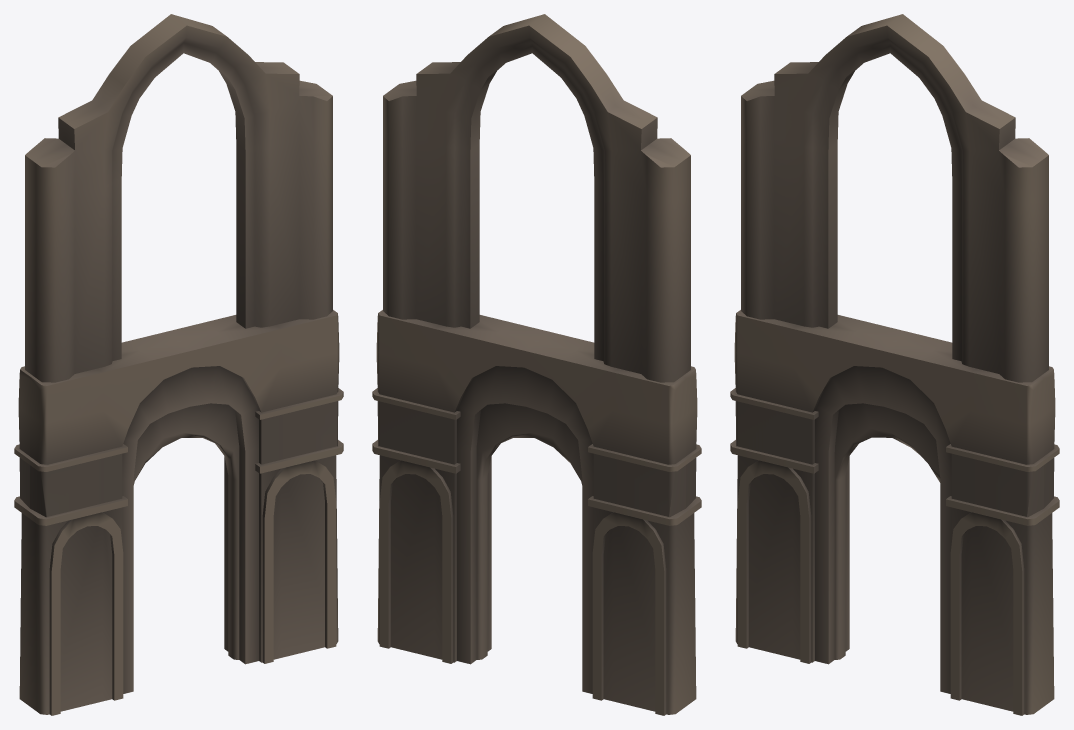
Rendered from buildings-ruins-cathedralruins_v9.glb.
3 renders of one model, left to right at view 1: azimuth 30°, elevation 25°; view 2: azimuth 150°, elevation 25°; view 3: azimuth 330°, elevation 25°, orthographic.
Visible parts, largest first — view 1: CathedralRuins_v9; view 2: CathedralRuins_v9; view 3: CathedralRuins_v9.
Part boxes in pixels (left/top/right/bottom): CathedralRuins_v9: left=14, top=14, right=343, bottom=715; CathedralRuins_v9: left=372, top=14, right=701, bottom=715; CathedralRuins_v9: left=730, top=14, right=1059, bottom=715.
Size of the model in its own units: 11.13 by 22.67 by 1.9.
